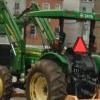Tractor: (15, 5, 100, 96)
